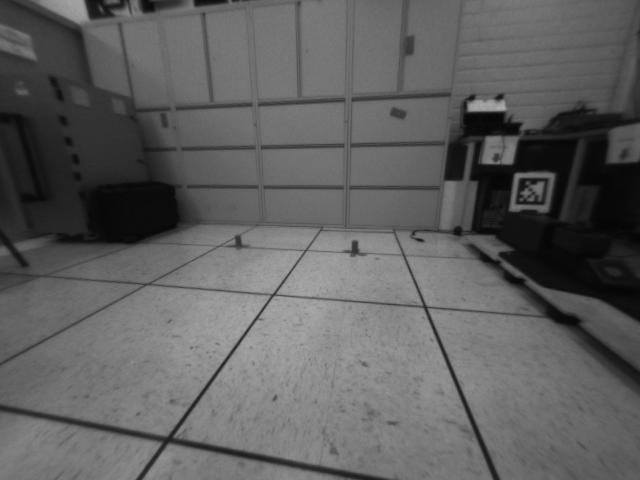X: (343, 239, 369, 258), (227, 233, 250, 251)
